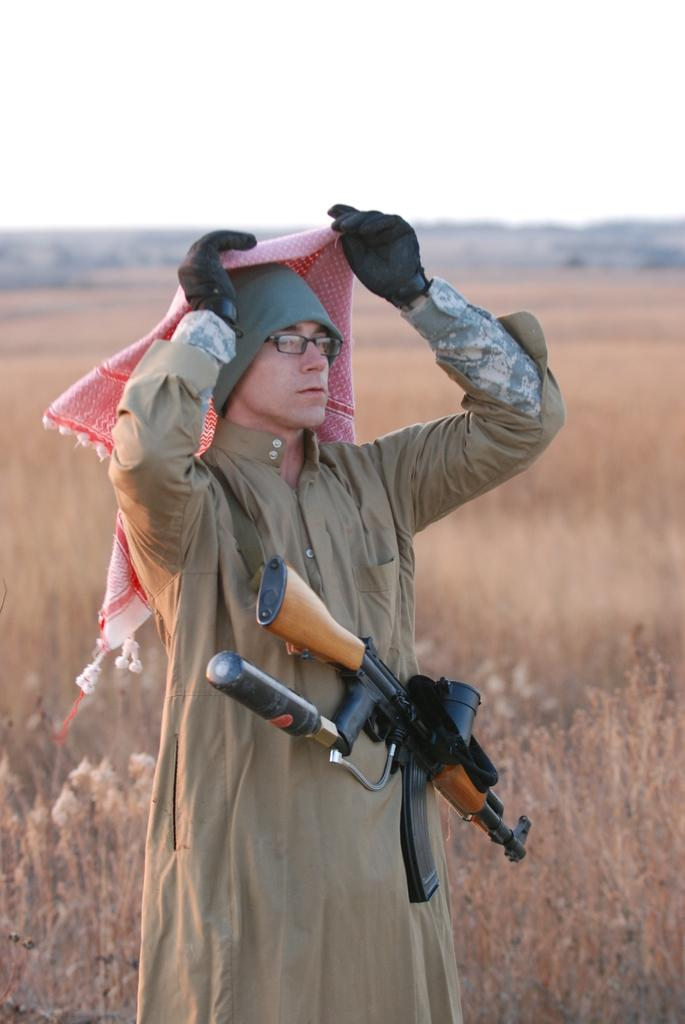Rifle: (205, 556, 529, 901)
